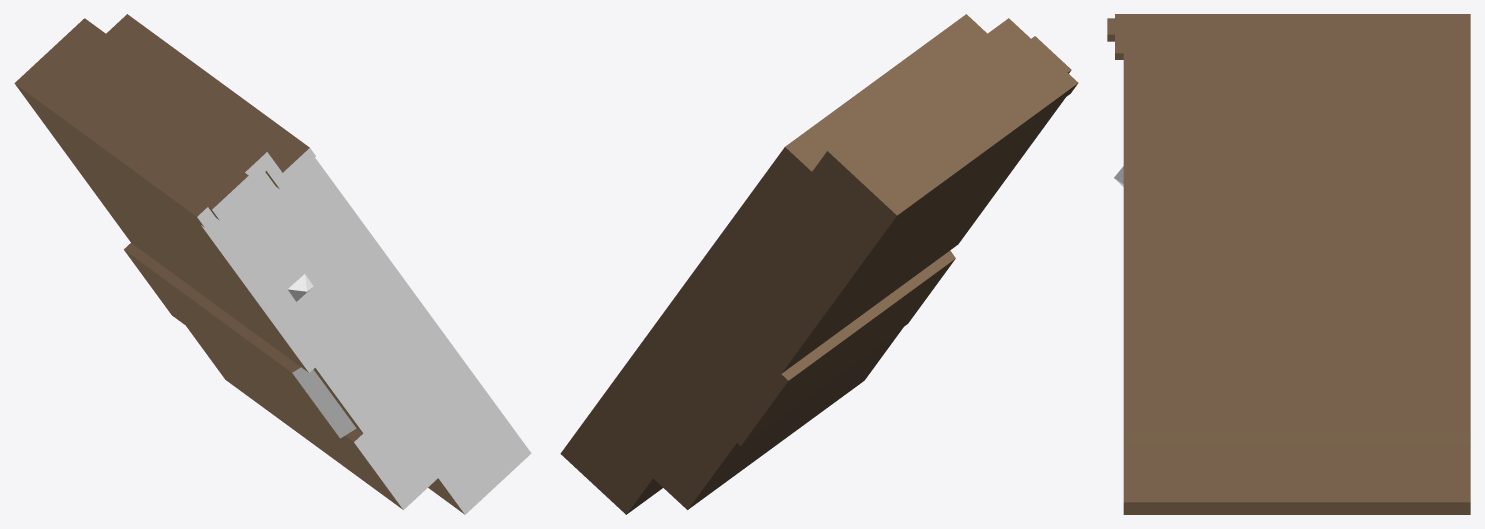
The picture shows the model from 3 angles, left to right: view 1: azimuth 30°, elevation 25°; view 2: azimuth 150°, elevation 25°; view 3: azimuth 270°, elevation 25°; orthographic projection. The views are drawn at different scales.
Visible parts, largest first — view 1: City_1884902; view 2: City_1884902; view 3: City_1884902.
Boxes of the visible parts, left/top/right/bottom form: City_1884902: left=14, top=14, right=531, bottom=514; City_1884902: left=560, top=14, right=1078, bottom=514; City_1884902: left=1107, top=14, right=1470, bottom=514.
Bounding box in the file's own units: 1629 × 1910 × 1554.
